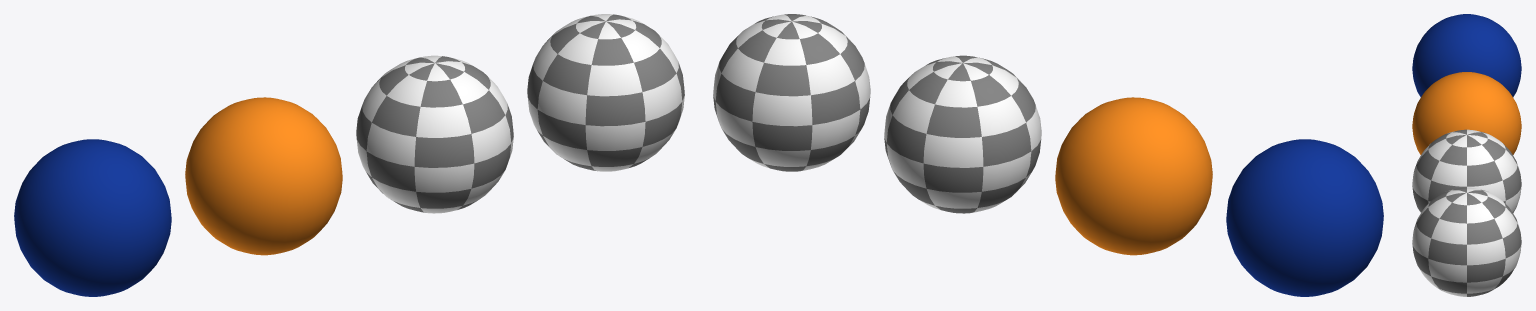
File: BaseColorTest.obj
3 views of the same model, side by side, from view 1: azimuth 30°, elevation 25°; view 2: azimuth 150°, elevation 25°; view 3: azimuth 270°, elevation 25° (orthographic). The views are drawn at different scales.
Visible parts, largest first — view 1: ColorDark, ColorTexture, ColorBright, TextureOnly; view 2: ColorDark, ColorTexture, ColorBright, TextureOnly; view 3: ColorTexture, TextureOnly, ColorDark, ColorBright.
Part boxes in pixels (box(x1,y1,x2,y2)): ColorDark: box(14, 139, 171, 296); ColorTexture: box(527, 14, 684, 171); ColorBright: box(185, 97, 342, 255); TextureOnly: box(356, 55, 513, 213); ColorDark: box(1226, 139, 1383, 296); ColorTexture: box(713, 14, 870, 171); ColorBright: box(1055, 97, 1212, 255); TextureOnly: box(884, 55, 1041, 213); ColorTexture: box(1412, 187, 1521, 296); TextureOnly: box(1412, 129, 1521, 212); ColorDark: box(1412, 14, 1521, 97); ColorBright: box(1412, 72, 1521, 154).
Bounding box in the file's own units: 7.6 × 1.6 × 1.6.
4 materials, 2 textured.
